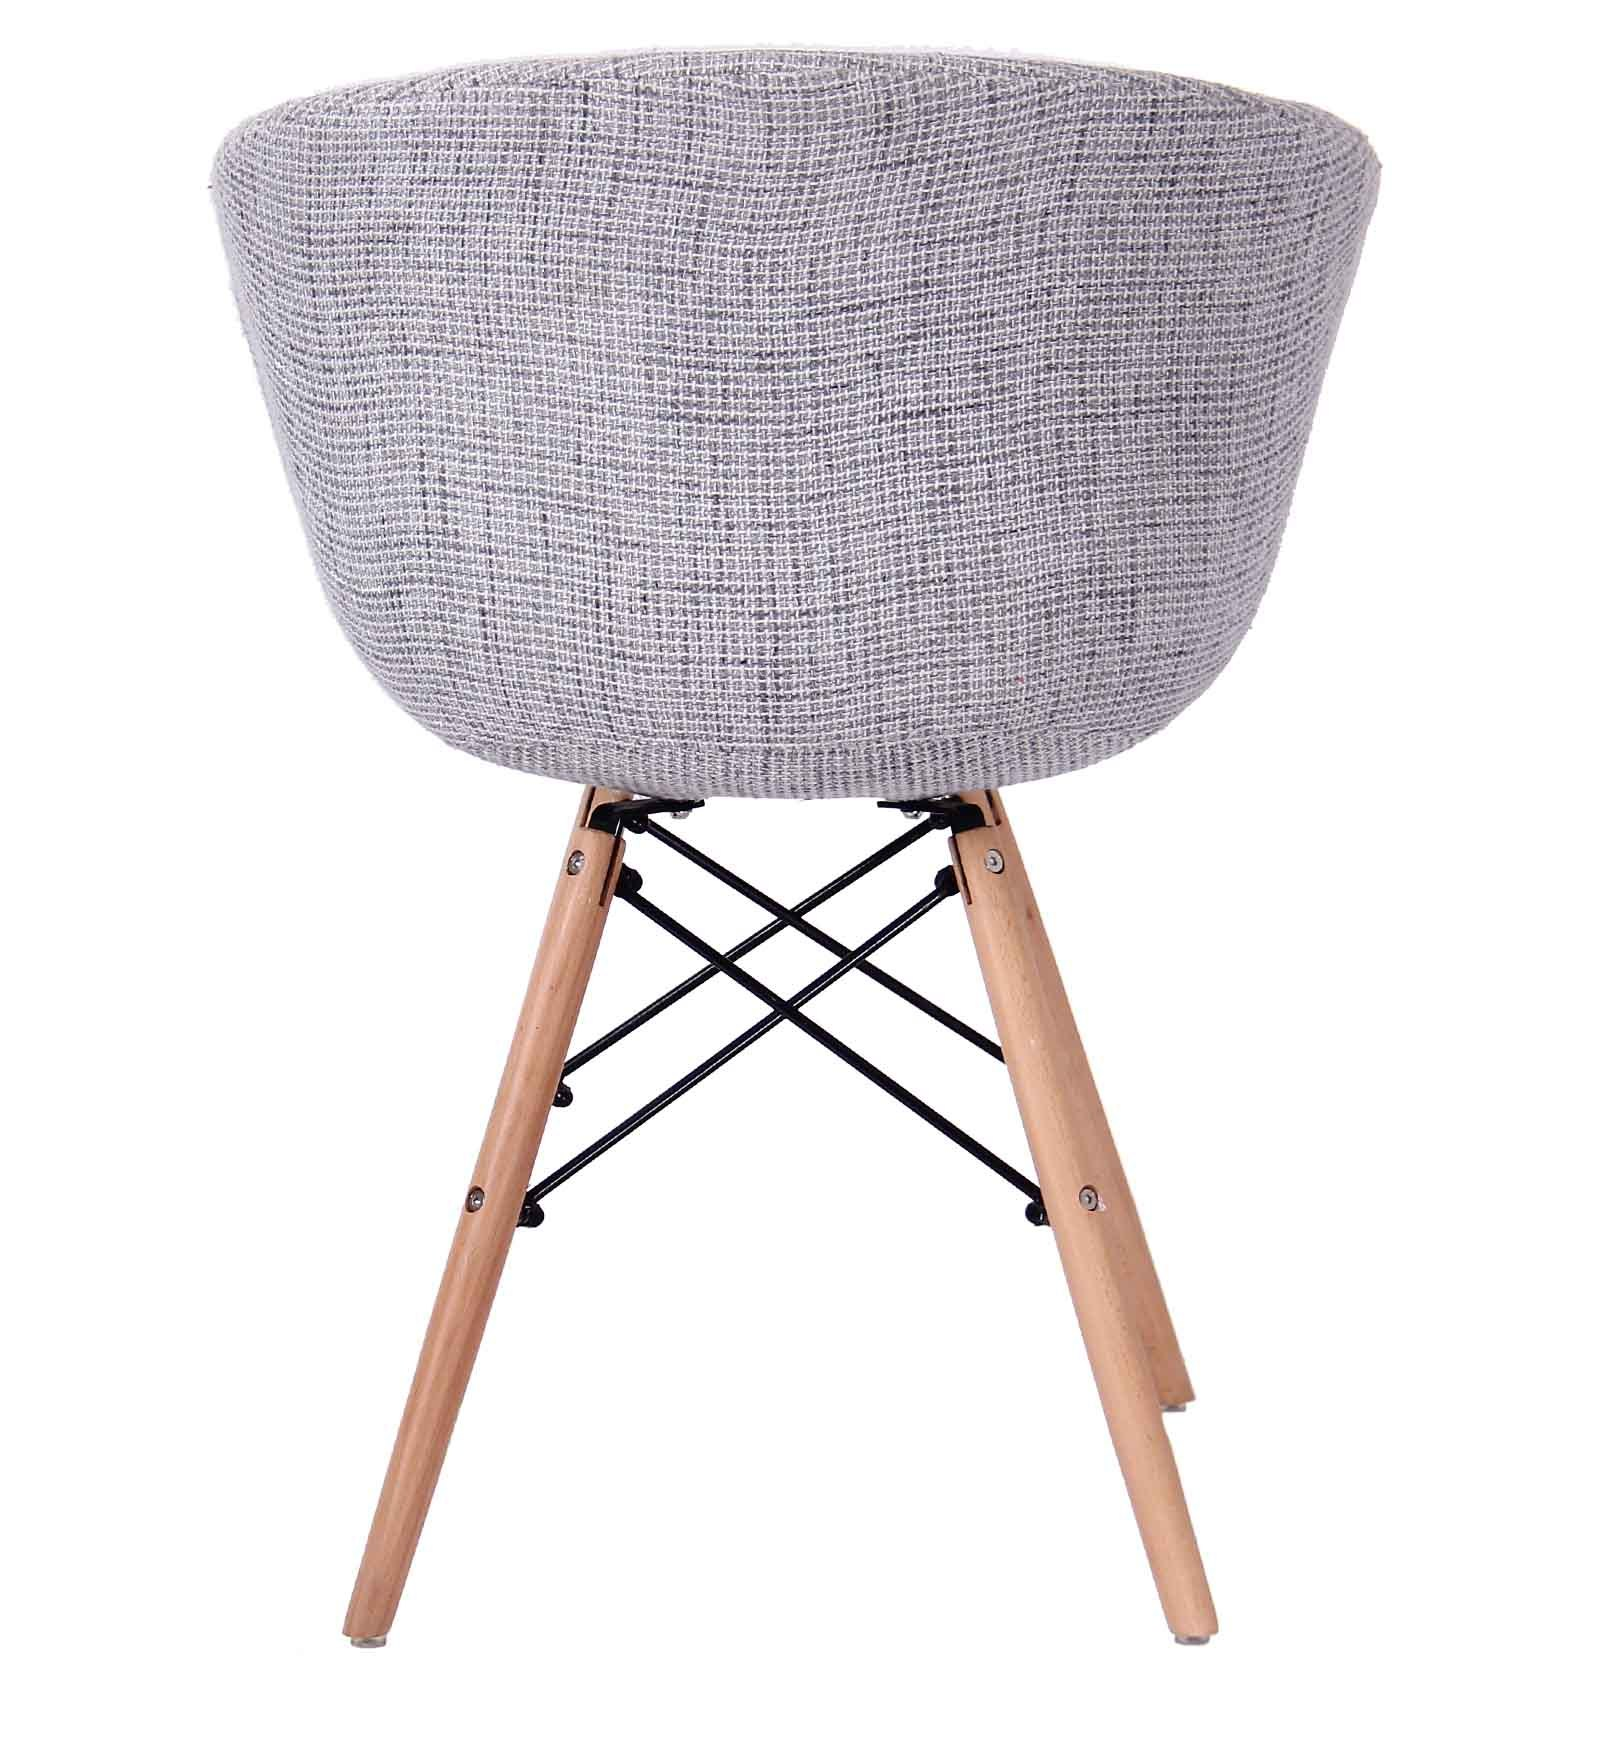Cory Fabric Chair in Light Grey Colour by Bohemiana: (169, 17, 1408, 1717)
